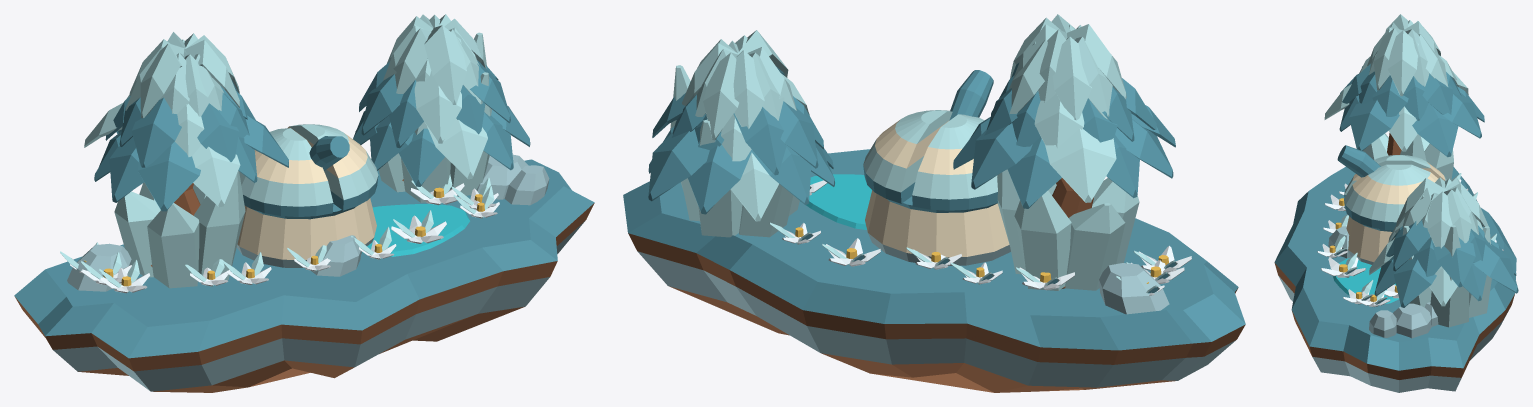
Rendered from polar.glb.
The picture shows the model from 3 angles, left to right: view 1: azimuth 30°, elevation 25°; view 2: azimuth 150°, elevation 25°; view 3: azimuth 270°, elevation 25°; orthographic projection. The views are drawn at different scales.
Parts seen in each view (by area): view 1: terrace-polar, observatory-dome; view 2: terrace-polar, observatory-dome; view 3: terrace-polar, observatory-dome.
Part boxes in pixels (bbox=[...]): terrace-polar: bbox=[14, 14, 594, 392]; observatory-dome: bbox=[239, 124, 378, 216]; terrace-polar: bbox=[623, 14, 1245, 392]; observatory-dome: bbox=[863, 70, 998, 210]; terrace-polar: bbox=[1274, 14, 1518, 392]; observatory-dome: bbox=[1337, 145, 1446, 230].
Size of the model in its own units: 4.71 by 2.77 by 2.3.
